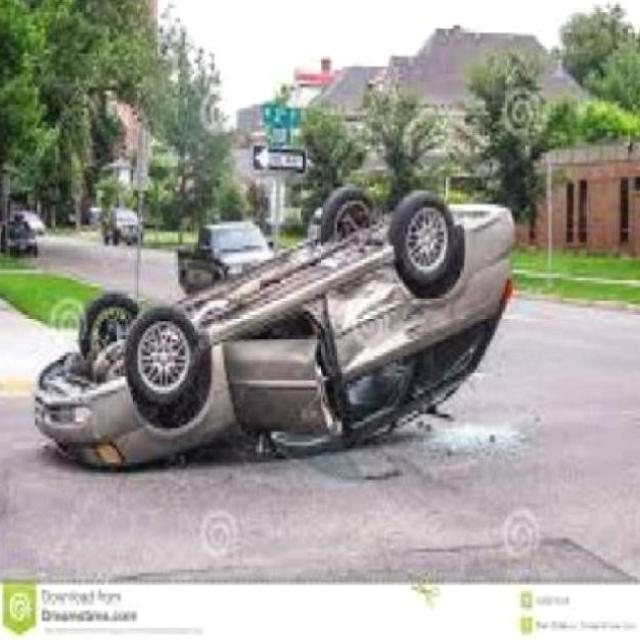accident: (30, 178, 520, 478)
